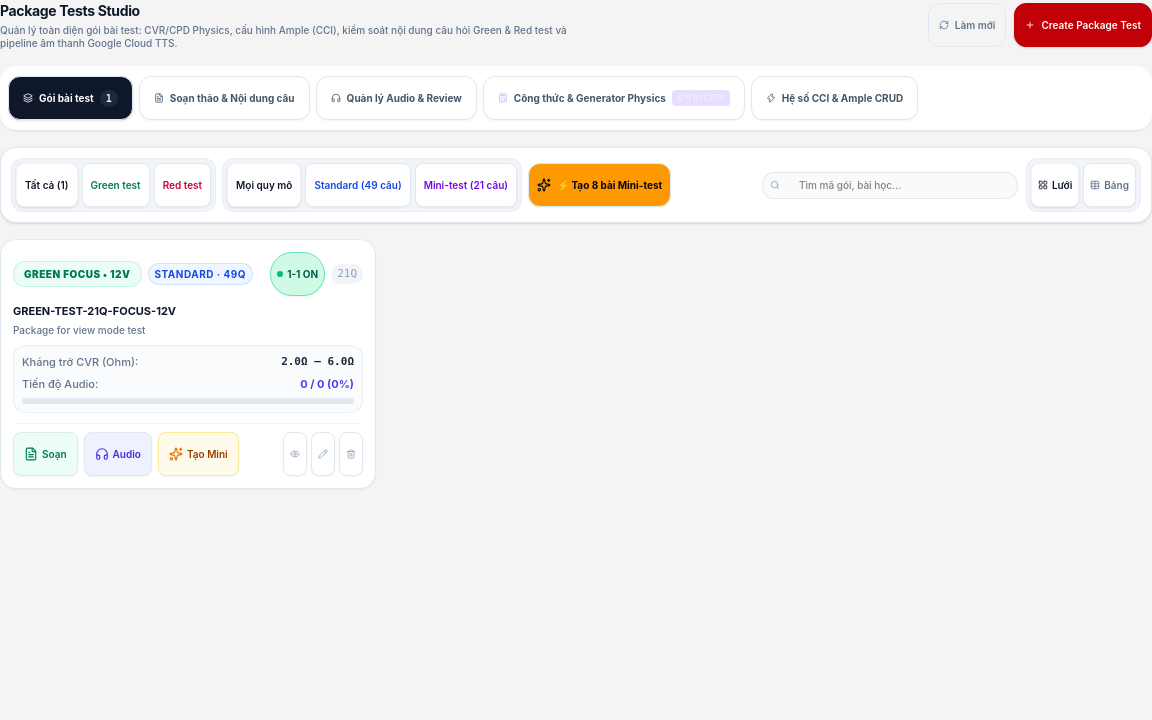
Test: AdminPackageTestsPage › supports multi-view modes across Packages, Content, and Audio tabs
Expected: the heading "GREEN-TEST-21Q-FOCUS-12V" is shown, [13,304,176,318]
# Test Packages Tab: Switch to Table View
Click the button titled "Dạng bảng chi tiết" at point(1110, 185), box [1083,163,1136,207]
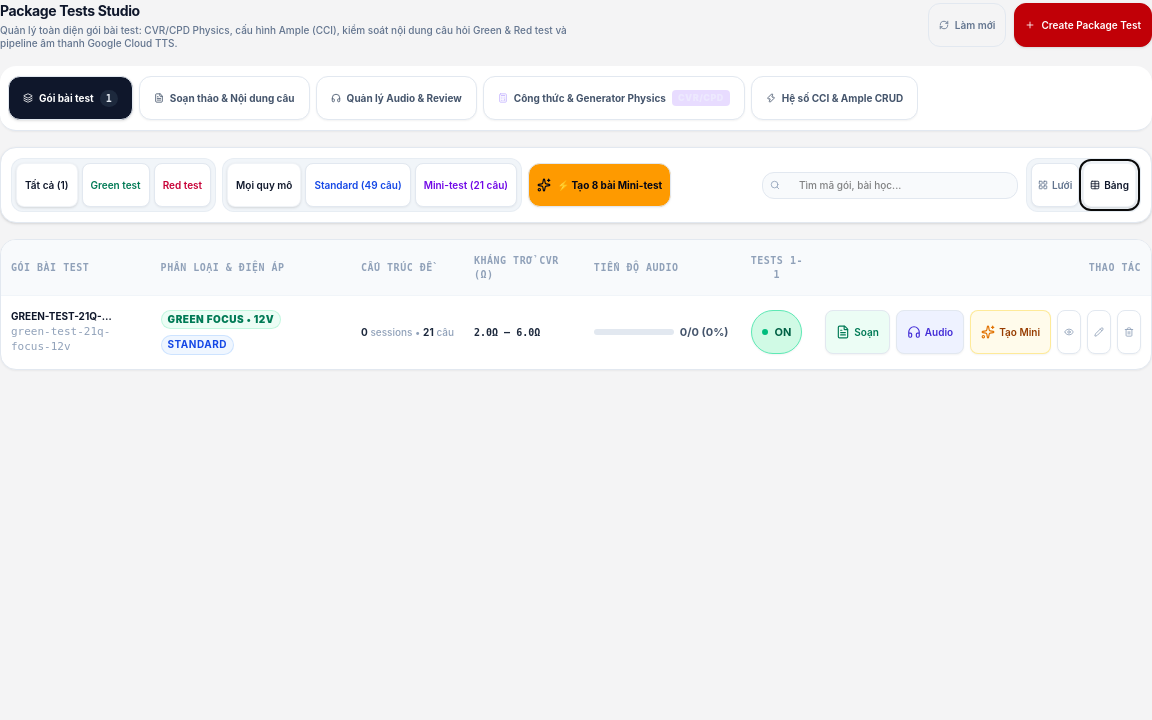
Expected: the column heading "Phân loại & Điện áp" is shown, [151,240,351,296]
# Switch to Content tab
Click the button "Soạn thảo & Nội dung câu" at point(224, 98), box [139,76,310,120]
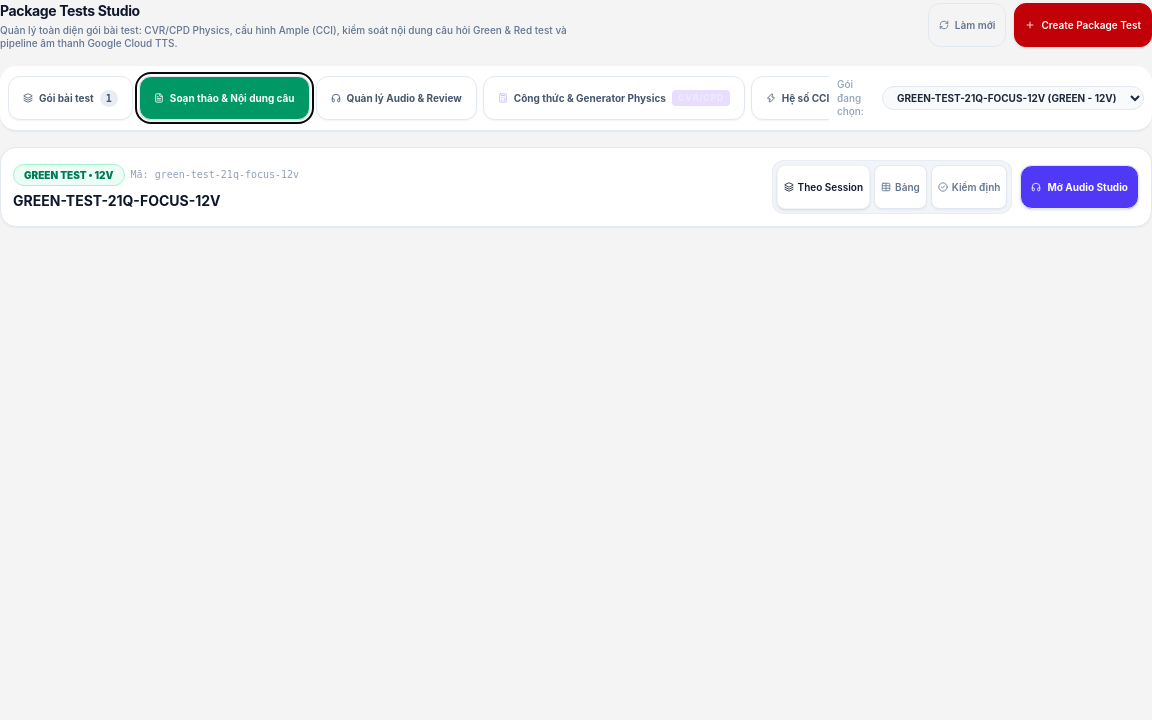
# Test Content Tab: Table View
Click the button titled "Bảng toàn bộ câu hỏi" at point(900, 187), box [874,165,927,209]
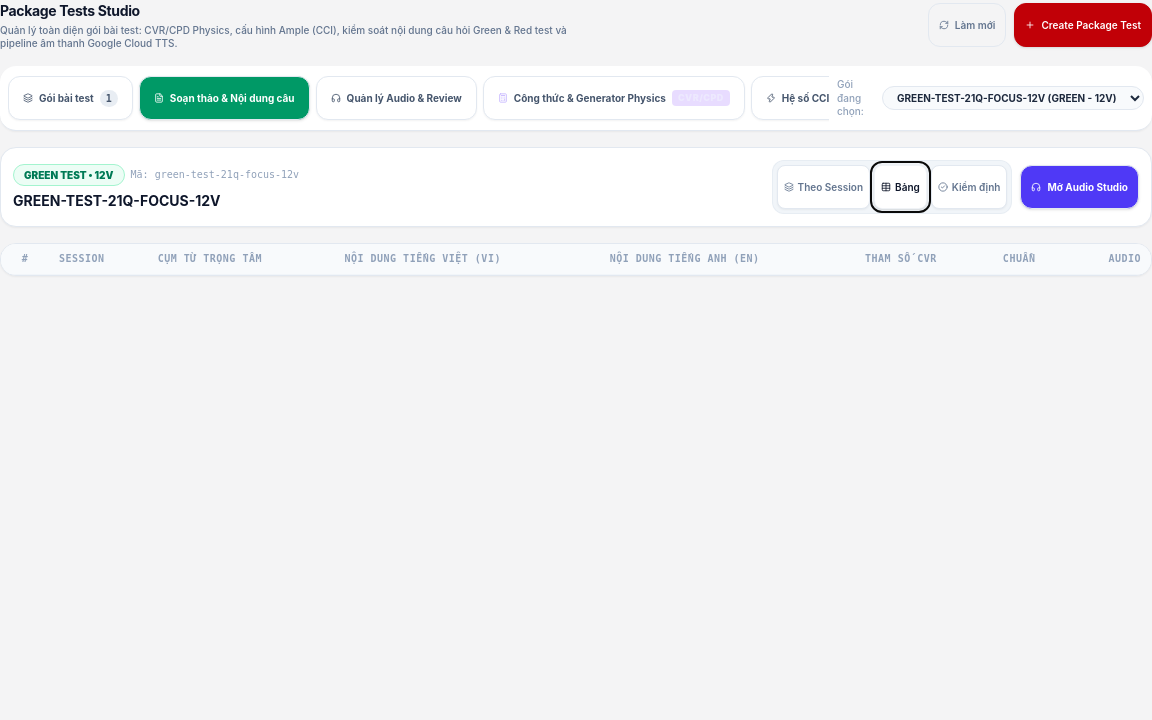
Expected: the column heading "Nội dung Tiếng Việt (VI)" is shown, [334,244,600,274]
# Test Content Tab: Validation View
Click the button titled "Kiểm định chất lượng & Vật lý" at point(969, 187), box [931,165,1007,209]
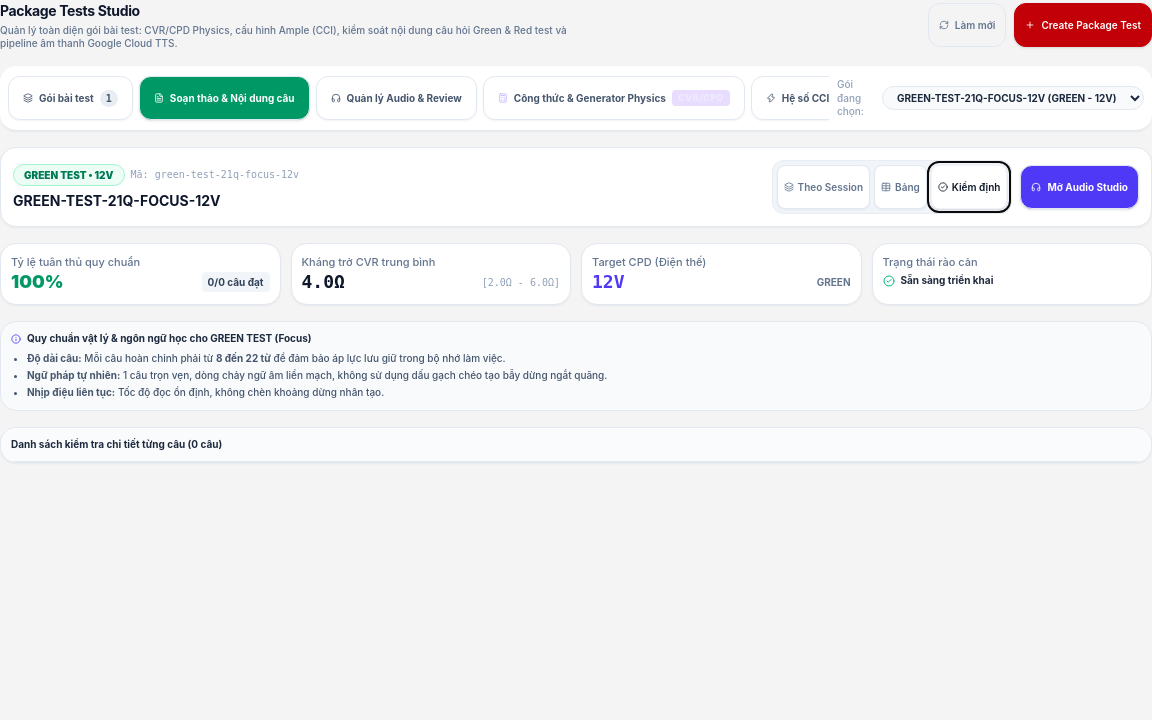
Expected: the text "Tỷ lệ tuân thủ quy chuẩn" is shown, [11,255,140,269]
Expected: the text "Quy chuẩn vật lý & ngôn ngữ học cho GREEN TEST (Focus)" is shown, [27,332,312,346]
# Switch to Audio tab
Click the button "Quản lý Audio & Review" at point(396, 98), box [316,76,477,120]
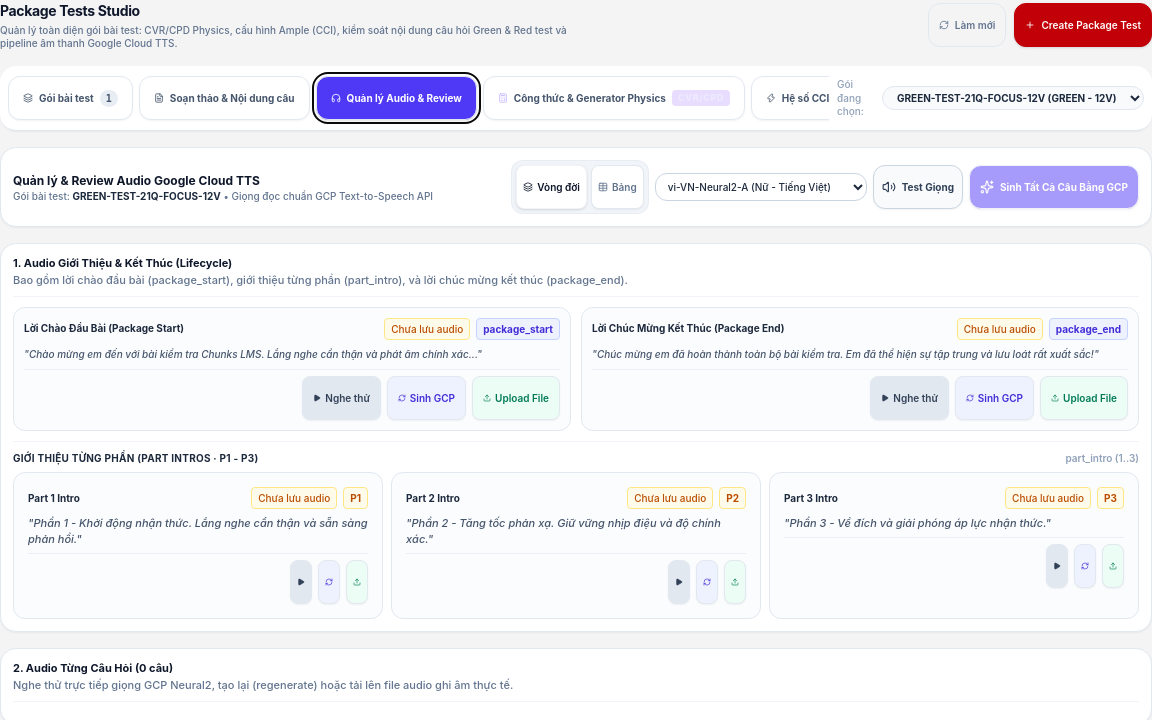
# Test Audio Tab: Table View
Click the button titled "Bảng tổng hợp Audio" at point(617, 187), box [591,165,644,209]
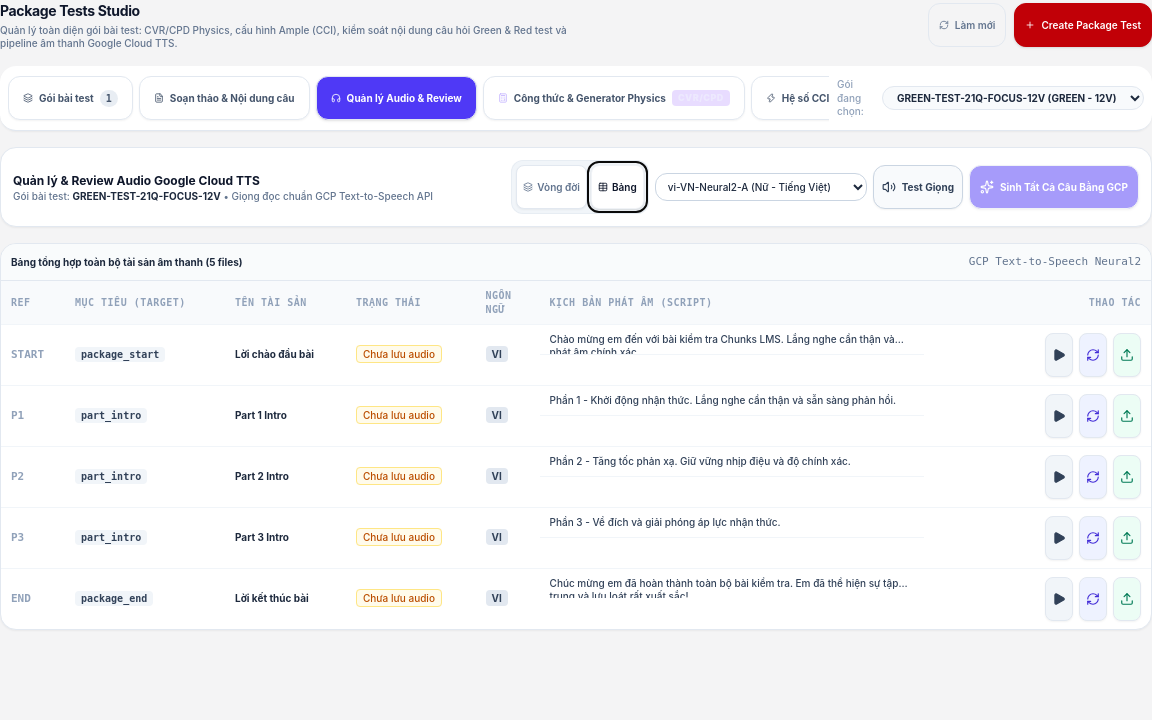
Expected: the text "Bảng tổng hợp toàn bộ tài sản âm thanh (5 files)" is shown, [11,256,243,269]
Expected: the column heading "Kịch bản phát âm (Script)" is shown, [540,281,1009,325]
